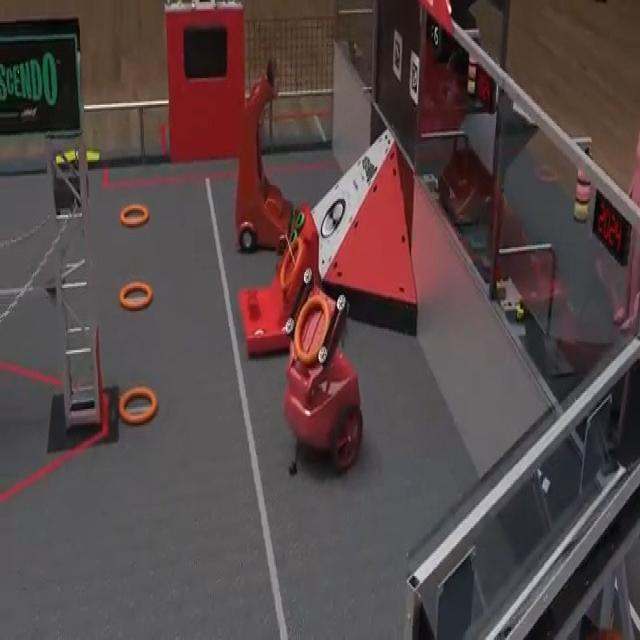notes: (119, 387, 160, 428), (118, 280, 154, 310), (118, 200, 152, 228)
